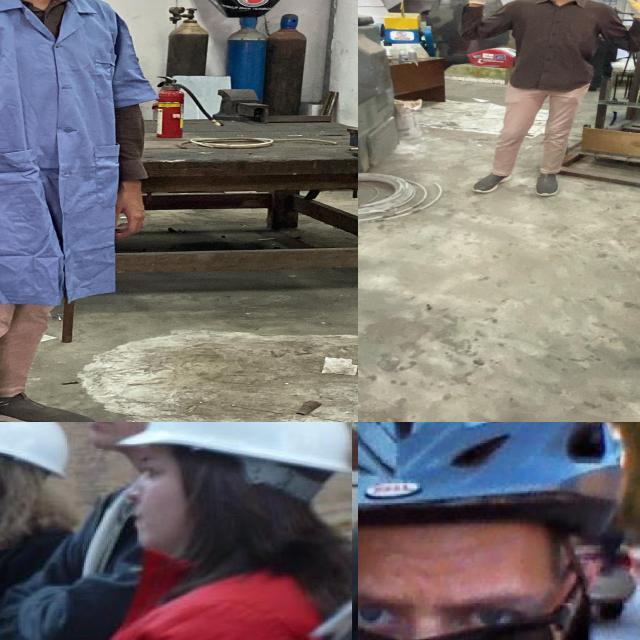face_nomask: (358, 574, 546, 640), (122, 457, 187, 539), (83, 422, 132, 436)
glasses: (358, 601, 592, 640)
hand_noglove: (99, 195, 159, 243)
head_helmet: (358, 422, 629, 546), (119, 422, 358, 476), (0, 422, 74, 479)
person: (0, 0, 180, 422), (451, 0, 640, 201)
shoes: (0, 389, 117, 422), (466, 168, 515, 195), (527, 168, 562, 198)
